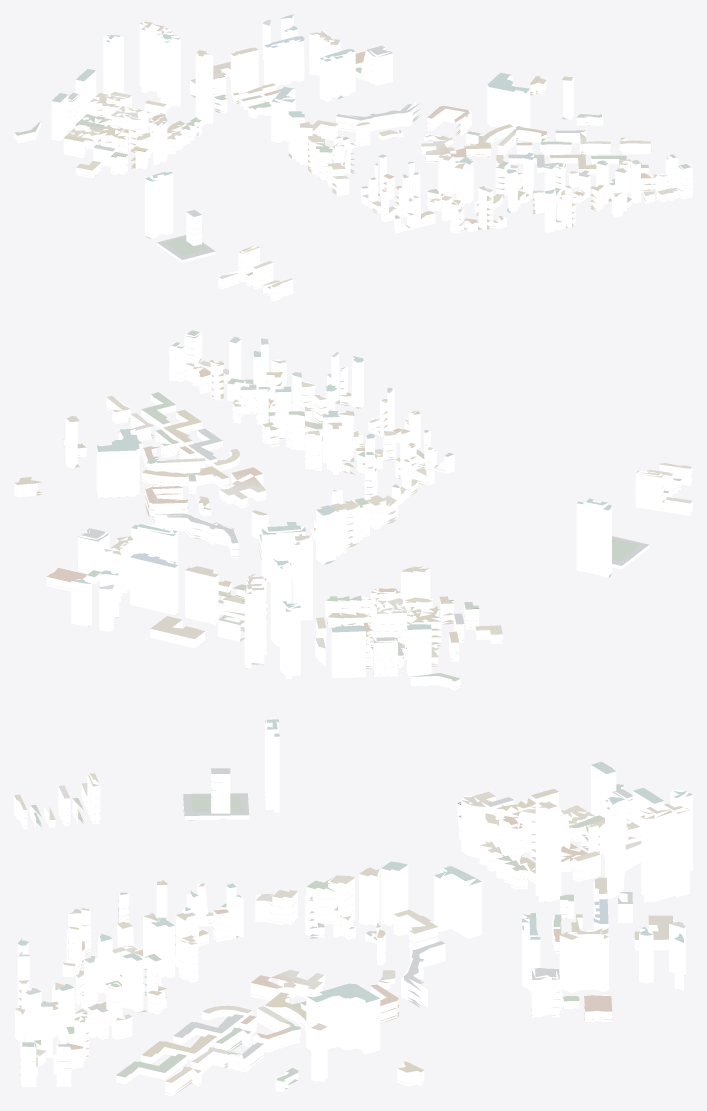
The model's file is buildings--6_1-coarse.glb.
3 renders of one model, top to bottom at view 1: azimuth 30°, elevation 25°; view 2: azimuth 150°, elevation 25°; view 3: azimuth 270°, elevation 25°, orthographic. The views are drawn at different scales.
Parts seen in each view (by area): view 1: block_-6_1_residential, block_-6_1_office, block_-6_1_roof; view 2: block_-6_1_office, block_-6_1_residential, block_-6_1_roof; view 3: block_-6_1_office, block_-6_1_residential, block_-6_1_roof.
Part boxes in pixels (box(x1,y1,x2,y2)): block_-6_1_residential: box(14, 46, 692, 301); block_-6_1_office: box(51, 15, 640, 238); block_-6_1_roof: box(14, 14, 690, 294); block_-6_1_office: box(65, 340, 611, 679); block_-6_1_residential: box(14, 332, 692, 690); block_-6_1_roof: box(14, 330, 692, 687); block_-6_1_office: box(17, 720, 692, 1081); block_-6_1_residential: box(14, 771, 641, 1096); block_-6_1_roof: box(14, 719, 692, 1096).
Size of the model in its own units: 680 by 98.92 by 645.
